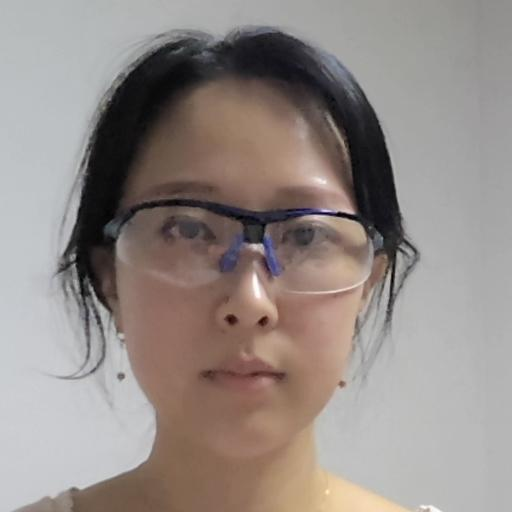glasses: (57, 24, 415, 454)
